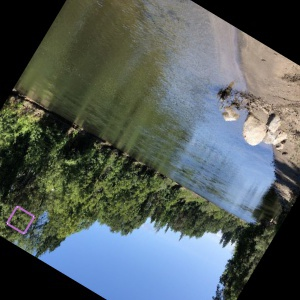square: (4, 204, 38, 237)
